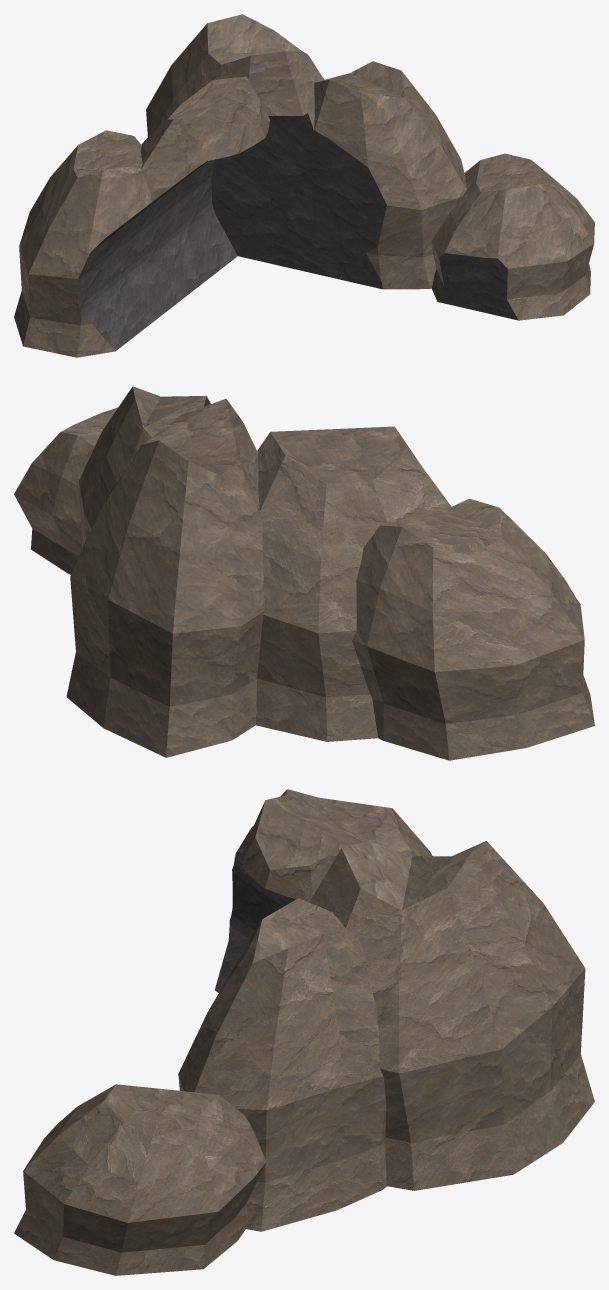
File: REJECTED-R31.glb
The picture shows the model from 3 angles, top to bottom: view 1: azimuth 30°, elevation 25°; view 2: azimuth 150°, elevation 25°; view 3: azimuth 270°, elevation 25°; orthographic projection. The views are drawn at different scales.
Parts seen in each view (by area): view 1: High jagged rear crag; view 2: High jagged rear crag; view 3: High jagged rear crag.
Boxes of the visible parts, x1,y1,x2,y2 form: High jagged rear crag: (14, 14, 594, 357); High jagged rear crag: (14, 386, 594, 760); High jagged rear crag: (14, 789, 594, 1275).
Bounding box in the file's own units: 16.36 × 6.5 × 12.07.
4 materials, 4 textured.
